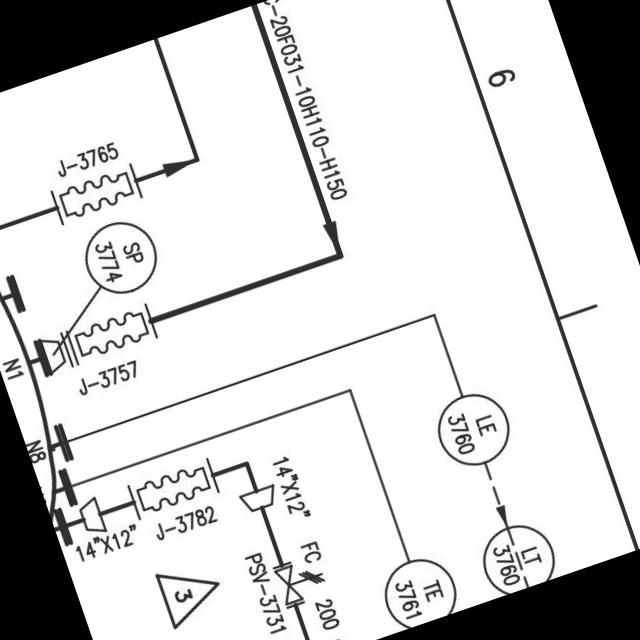EJ: (119, 450, 225, 528), (60, 298, 166, 376), (42, 156, 148, 230)
RPV: (266, 547, 332, 613)
SP: (232, 475, 284, 521)
